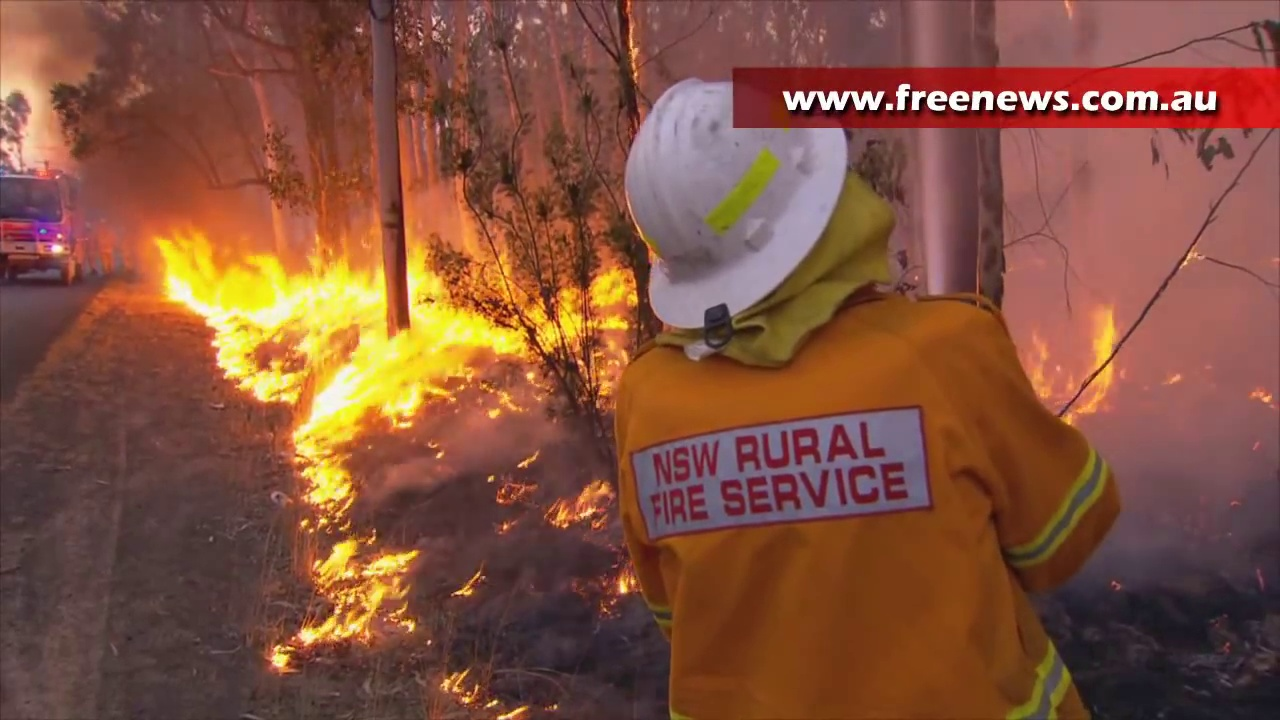fire: (158, 215, 579, 412), (309, 540, 410, 639), (296, 417, 353, 504), (591, 270, 637, 330), (554, 478, 607, 524), (1090, 307, 1113, 403), (1026, 337, 1058, 399)
